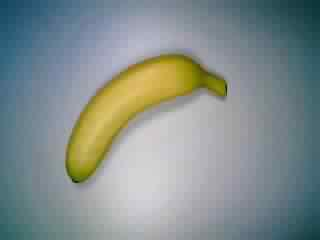banana: (61, 49, 230, 189)
